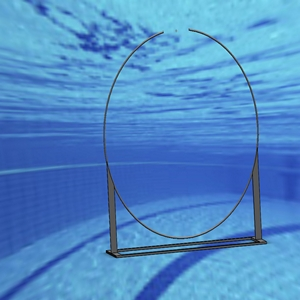circle: (99, 27, 263, 258)
